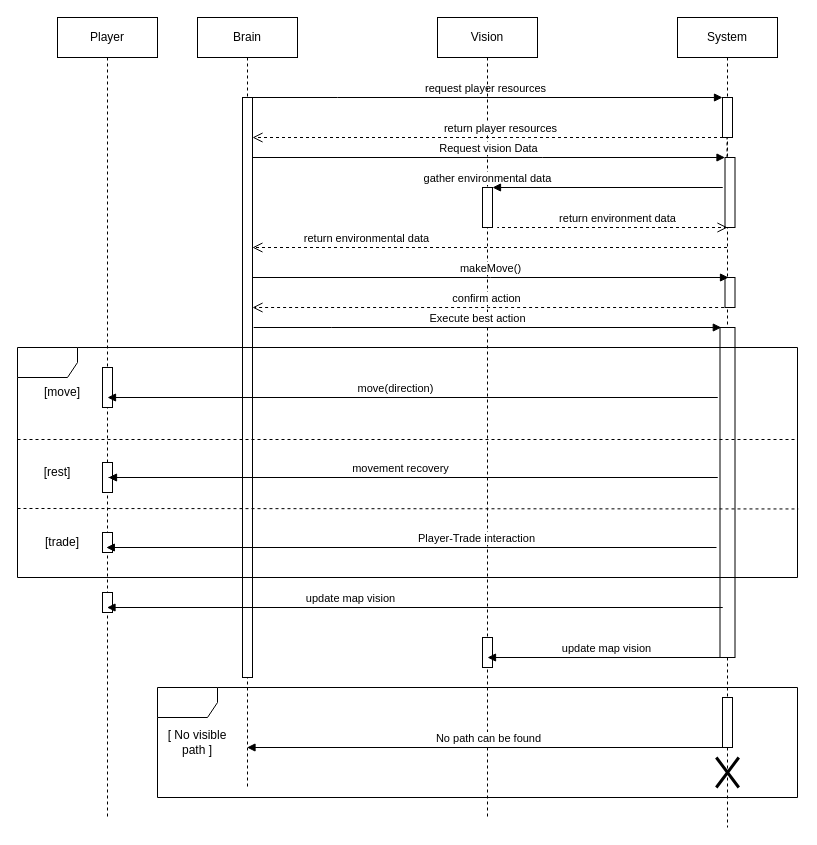
Some shapes in this 817 by 845 pixel diagram are drawn without their labels. Here are the shapes that lost their labels. From the top down, the box of each, then its label:
(16, 346, 798, 578): alt
(156, 686, 798, 798): alternative
